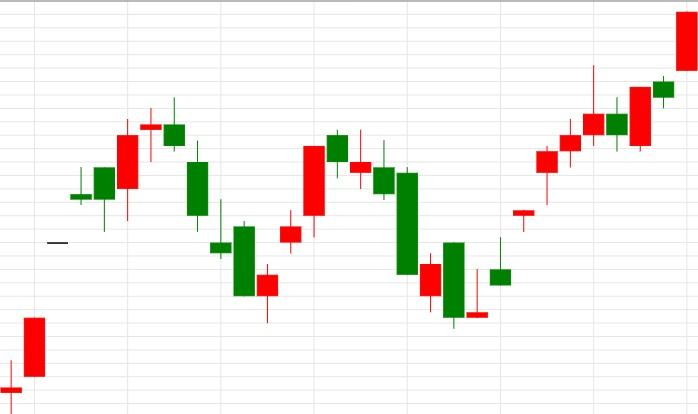shooting_star_fall: (466, 65, 604, 318)
three_white_soldiers_rise: (164, 97, 325, 323)
